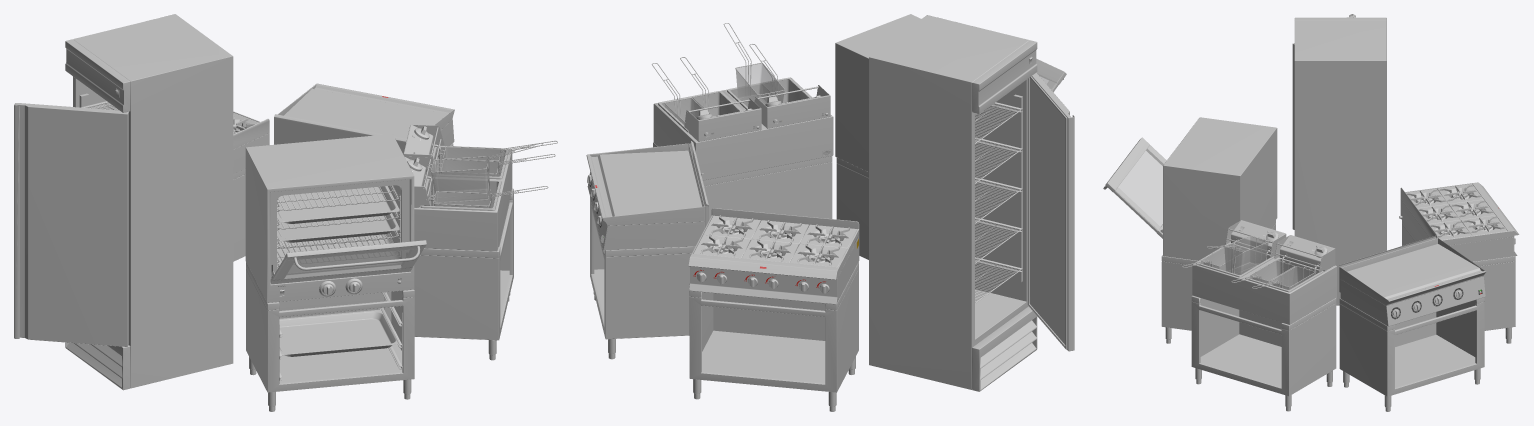
The picture shows the model from 3 angles, left to right: view 1: azimuth 30°, elevation 25°; view 2: azimuth 150°, elevation 25°; view 3: azimuth 270°, elevation 25°; orthographic projection. The views are drawn at different scales.
Visible parts, largest first — view 1: ComFridge, ComFridgeDoor, ComOven, Diner_CookBase001, Diner_CookBase, GasGriddle, ComFryerBase, ComOvenDoor, ComOvenAccA002, ComOvenAccA001, ComFryerBasket001, ComOvenAccA (+7 smaller); view 2: ComFridge, Diner_CookBase002, GasPlate, ComFridgeDoor, GasGriddle, Diner_CookBase003, ComFryerBase, Diner_CookBase, ComOven, ComFryerTop, Diner_CookBase001, ComFryerBasket001 (+9 smaller); view 3: ComFridge, ComOven, Diner_CookBase, Diner_CookBase003, GasGriddle, ComFryerBase, GasPlate, ComOvenDoor, Diner_CookBase002, ComFryerTop, Diner_CookBase001, ComFryerBasket001 (+4 smaller).
Boxes of the visible parts, left/top/right/bottom form: ComFridge: left=65, top=14, right=233, bottom=390; ComFridgeDoor: left=14, top=103, right=128, bottom=346; ComOven: left=245, top=134, right=414, bottom=302; Diner_CookBase001: left=246, top=262, right=414, bottom=411; Diner_CookBase: left=414, top=188, right=513, bottom=360; GasGriddle: left=274, top=83, right=454, bottom=154; ComFryerBase: left=414, top=145, right=512, bottom=251; ComOvenDoor: left=270, top=240, right=426, bottom=284; ComOvenAccA002: left=279, top=309, right=398, bottom=356; ComOvenAccA001: left=277, top=186, right=399, bottom=223; ComFryerBasket001: left=426, top=143, right=542, bottom=203; ComOvenAccA: left=277, top=213, right=399, bottom=242; ComFridge: left=869, top=15, right=1037, bottom=391; Diner_CookBase002: left=689, top=262, right=858, bottom=411; GasPlate: left=688, top=208, right=859, bottom=304; ComFridgeDoor: left=1027, top=72, right=1074, bottom=351; GasGriddle: left=586, top=141, right=708, bottom=250; Diner_CookBase003: left=590, top=197, right=694, bottom=359; ComFryerBase: left=653, top=77, right=833, bottom=180; Diner_CookBase: left=653, top=142, right=832, bottom=219; ComOven: left=835, top=14, right=920, bottom=171; ComFryerTop: left=684, top=85, right=830, bottom=141; Diner_CookBase001: left=836, top=157, right=868, bottom=259; ComFryerBasket001: left=723, top=23, right=784, bottom=106; ComFridge: left=1294, top=17, right=1386, bottom=305; ComOven: left=1163, top=117, right=1277, bottom=260; Diner_CookBase: left=1191, top=295, right=1336, bottom=411; Diner_CookBase003: left=1339, top=297, right=1484, bottom=411; GasGriddle: left=1339, top=235, right=1485, bottom=326; ComFryerBase: left=1192, top=242, right=1336, bottom=324; GasPlate: left=1399, top=182, right=1519, bottom=261; ComOvenDoor: left=1103, top=137, right=1166, bottom=238; Diner_CookBase002: left=1402, top=220, right=1515, bottom=343; ComFryerTop: left=1225, top=220, right=1335, bottom=274; Diner_CookBase001: left=1161, top=220, right=1275, bottom=343; ComFryerBasket001: left=1206, top=236, right=1268, bottom=274.
Bounding box in the file's own units: 355 × 216 × 332.
